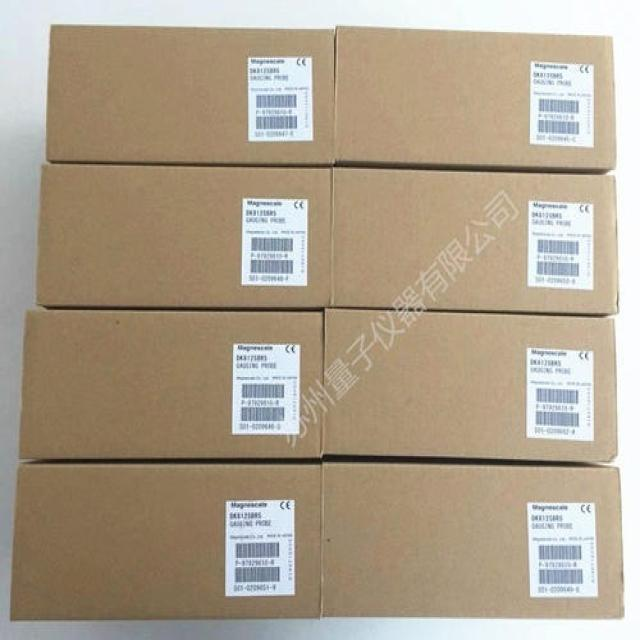box: (9, 461, 319, 620), (320, 463, 625, 617), (19, 307, 323, 459), (323, 308, 616, 463), (35, 165, 334, 310), (331, 169, 617, 315), (334, 24, 612, 173), (45, 24, 333, 167)
